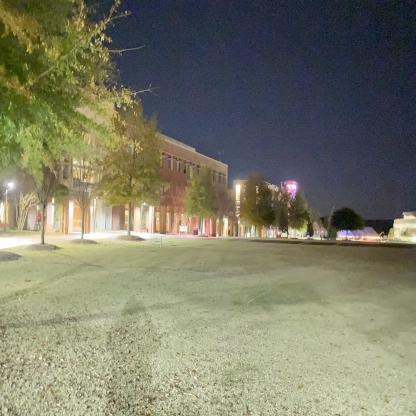eb2: (0, 67, 229, 238)
